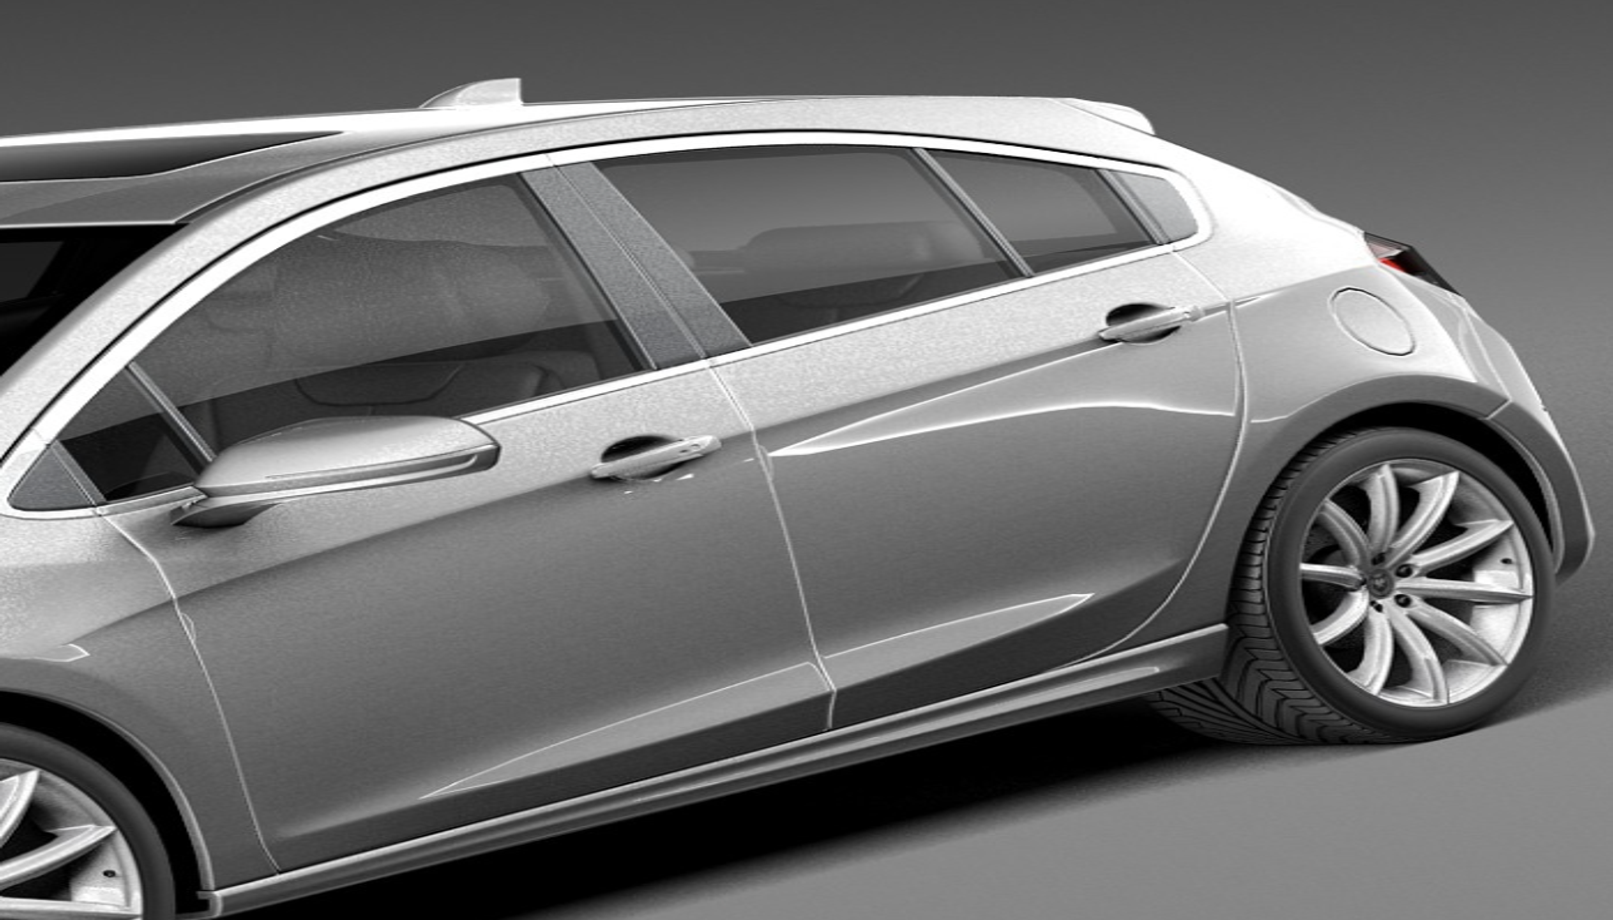hatch: (1322, 280, 1430, 368)
